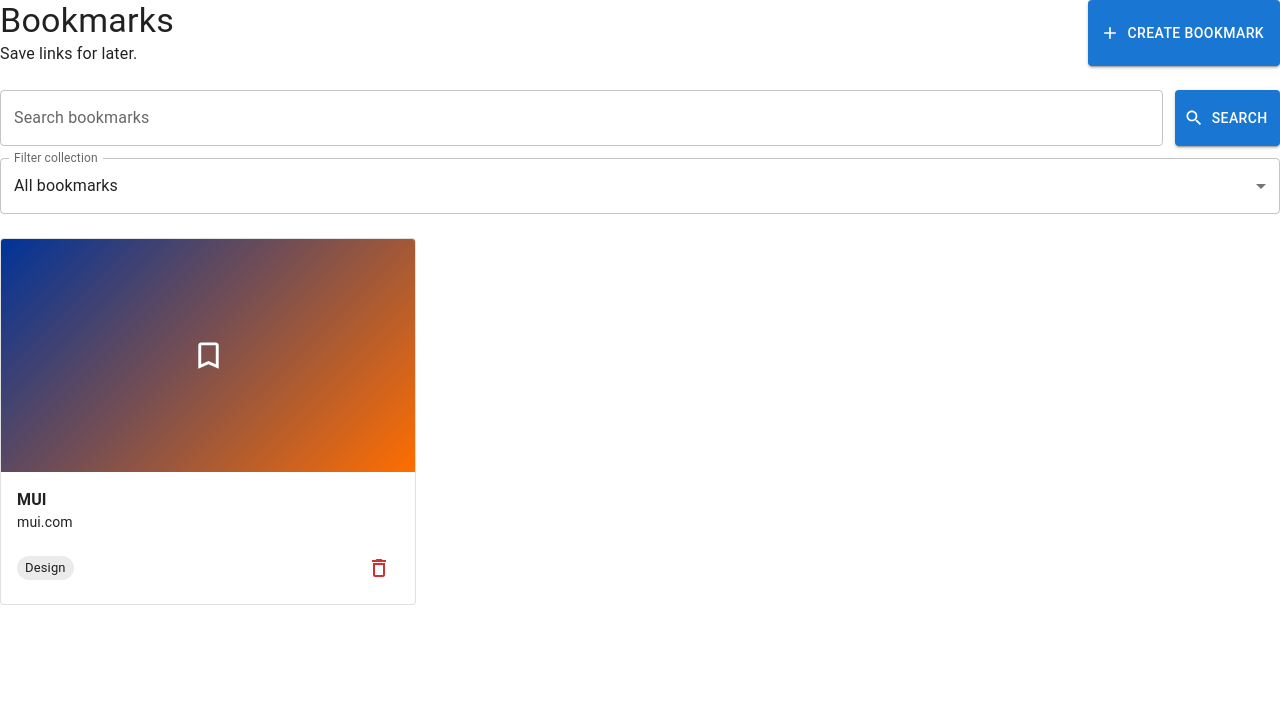
Test case: deletes a bookmark after confirmation
What coordinates should you click on to do the following:
click the button named "Delete bookmark"
I would click on:
 (379, 568)
Its box is [359,548,399,588].
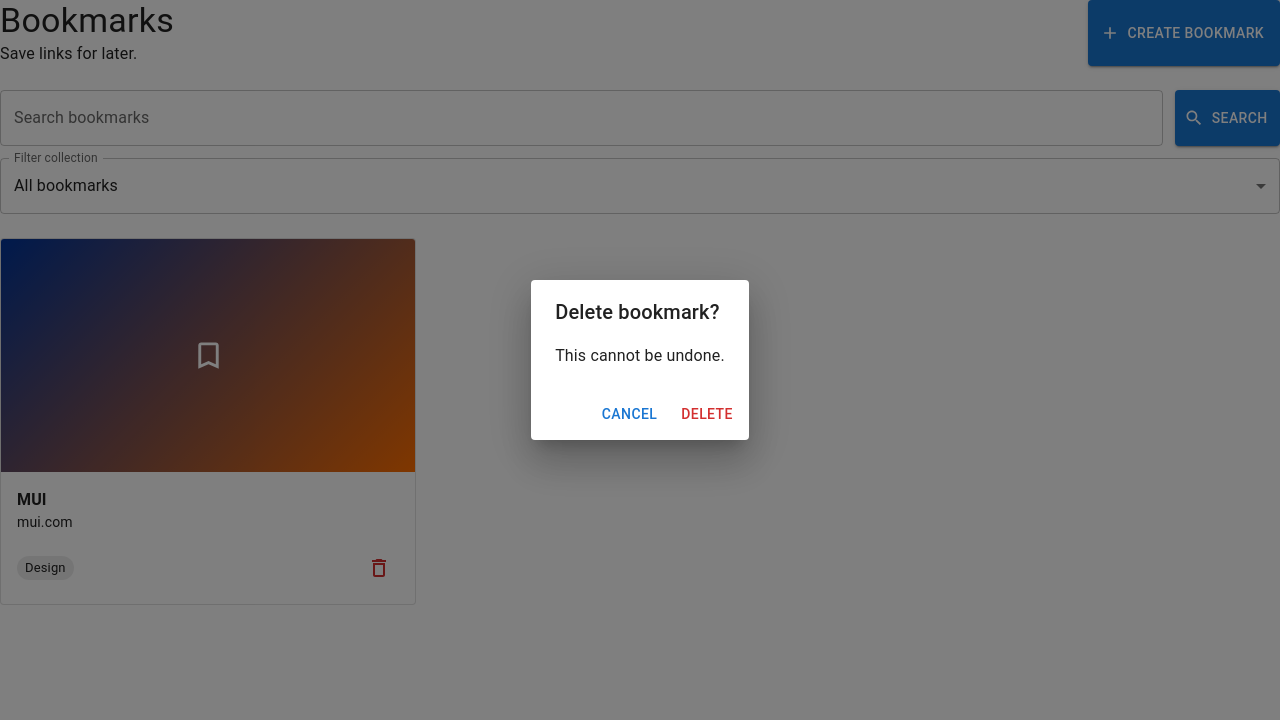
Result: the heading "Delete bookmark?" is shown at [555,300,720,324]
What coordinates should you click on to do the following:
click the button "Delete"
I would click on:
 (707, 414)
Its box is [673,396,741,432].
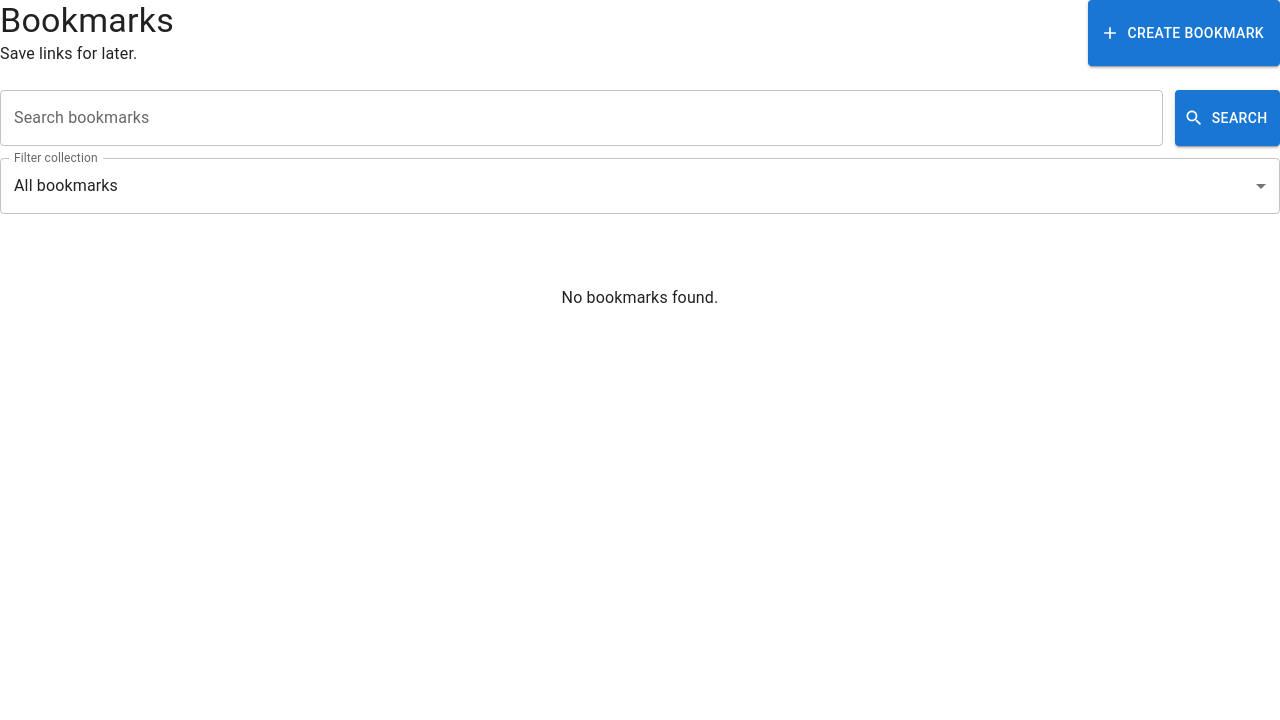
Result: the link "MUI" is gone
